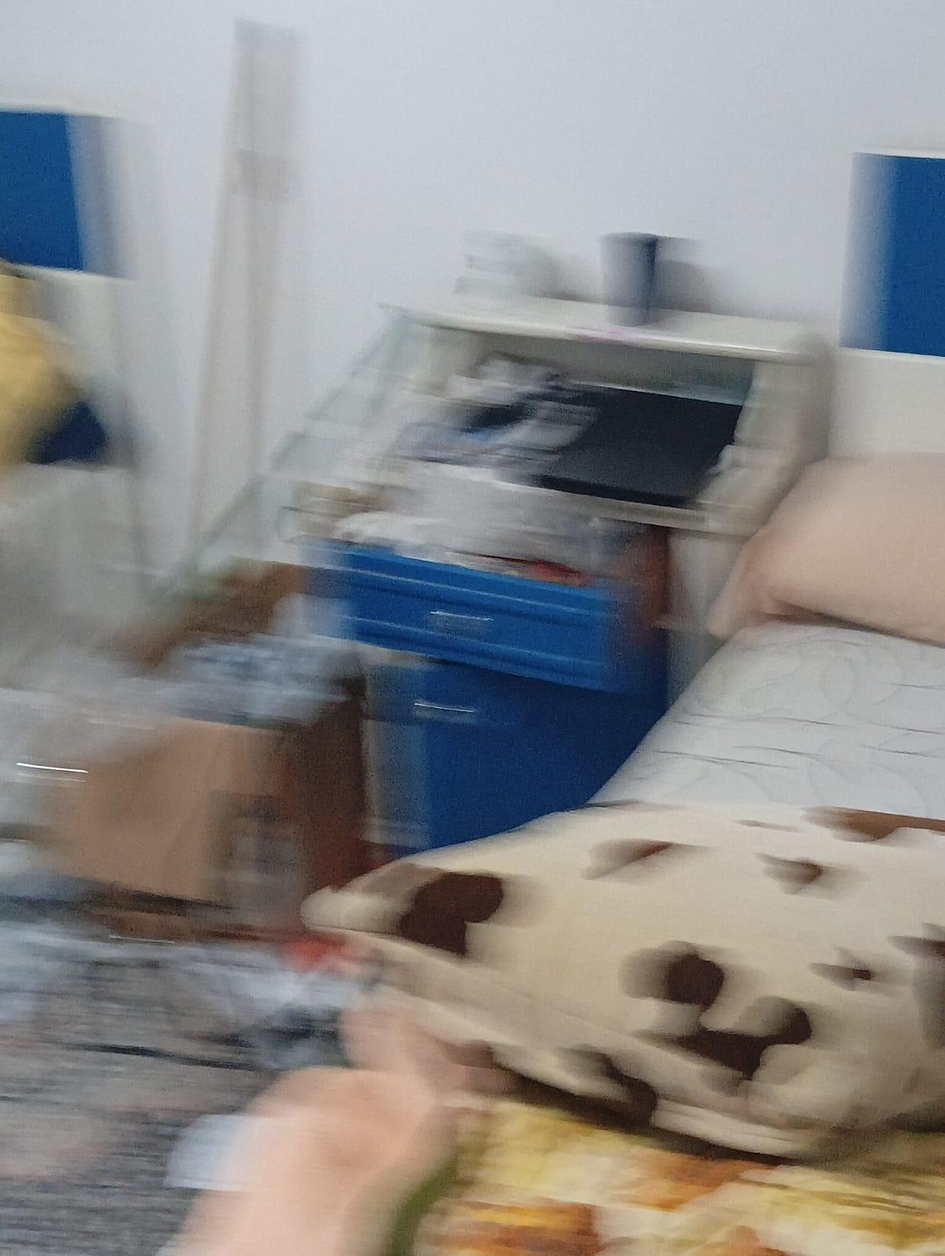cup: (456, 232, 559, 305), (602, 233, 661, 326)
